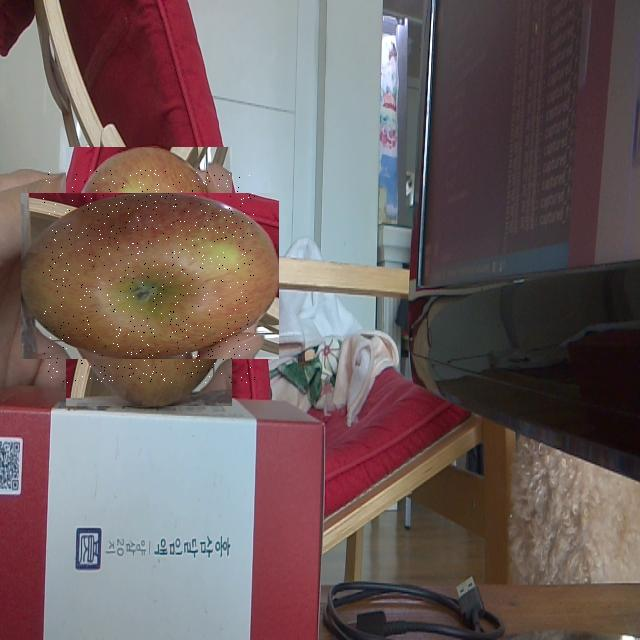apple: (43, 170, 256, 383)
